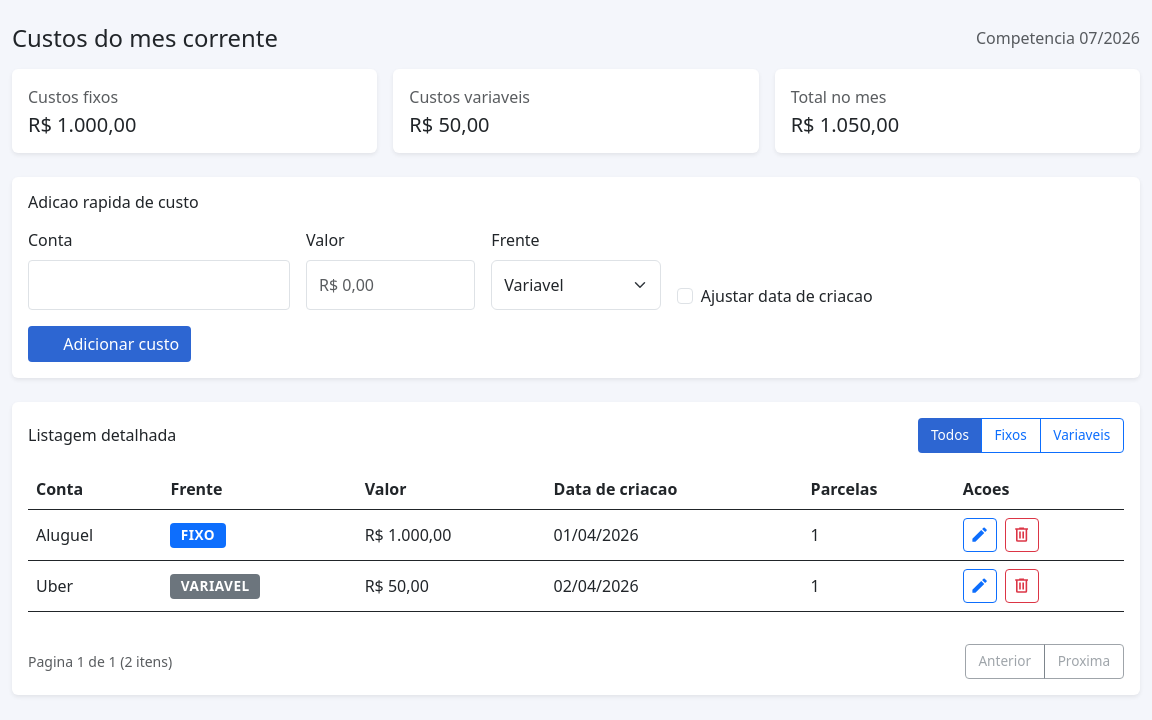
Test: CostsPage › aplica filtro por custos variaveis
This screenshot has width=1152, height=720.
Expected: the text "Aluguel" is shown, [28, 510, 162, 560]
Expected: the text "Uber" is shown, [28, 560, 162, 612]
Click the button "Variaveis": {"x": 1082, "y": 435} [1040, 418, 1124, 453]
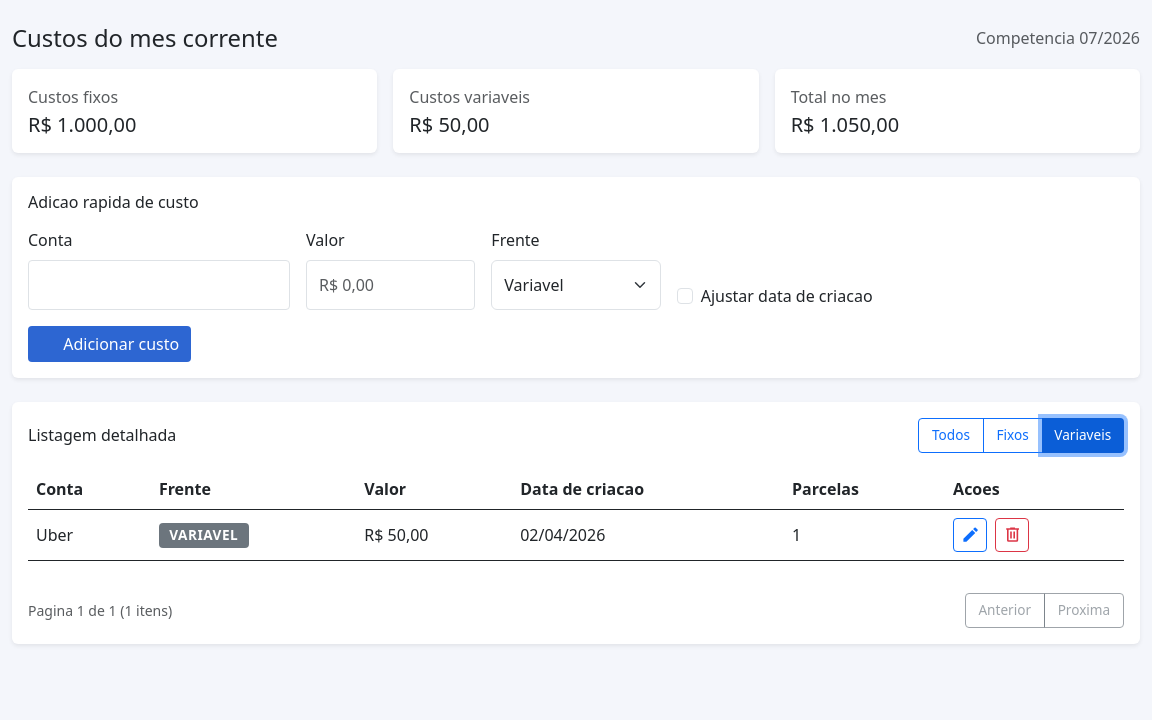
Expected: the text "Uber" is shown, [28, 510, 151, 560]
Result: the text "Aluguel" is gone
